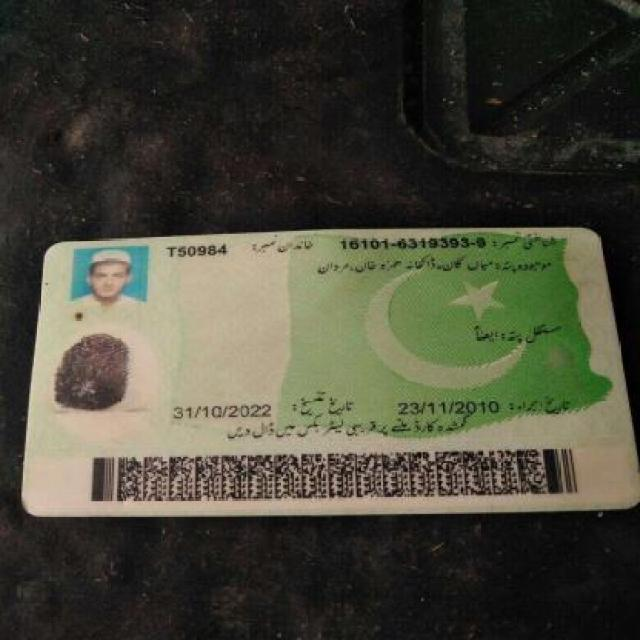Back: (17, 223, 623, 515)
